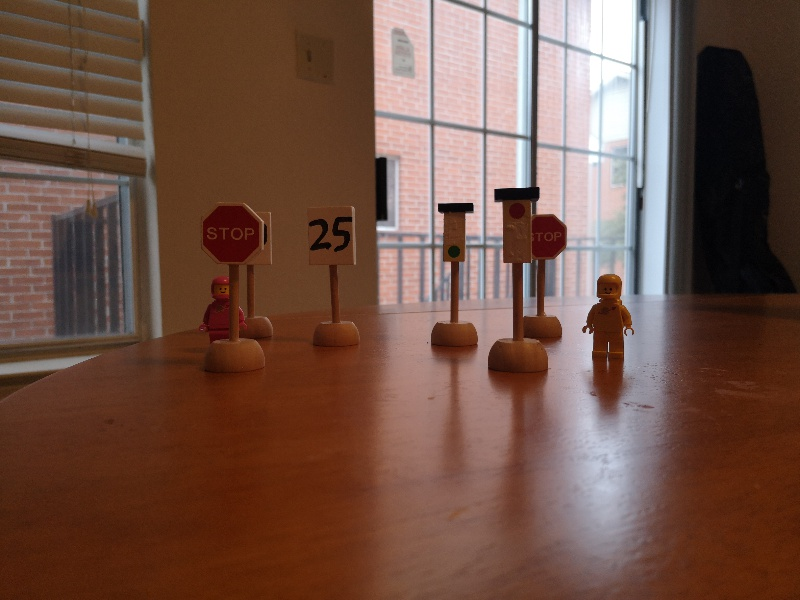Green Traffic Light: (436, 201, 474, 263)
Person: (582, 273, 637, 367), (198, 277, 247, 342)
Red Traffic Light: (494, 187, 540, 264)
Speed Limit 25: (305, 206, 359, 267)
Stop Sign: (200, 199, 265, 267), (531, 215, 570, 262)
